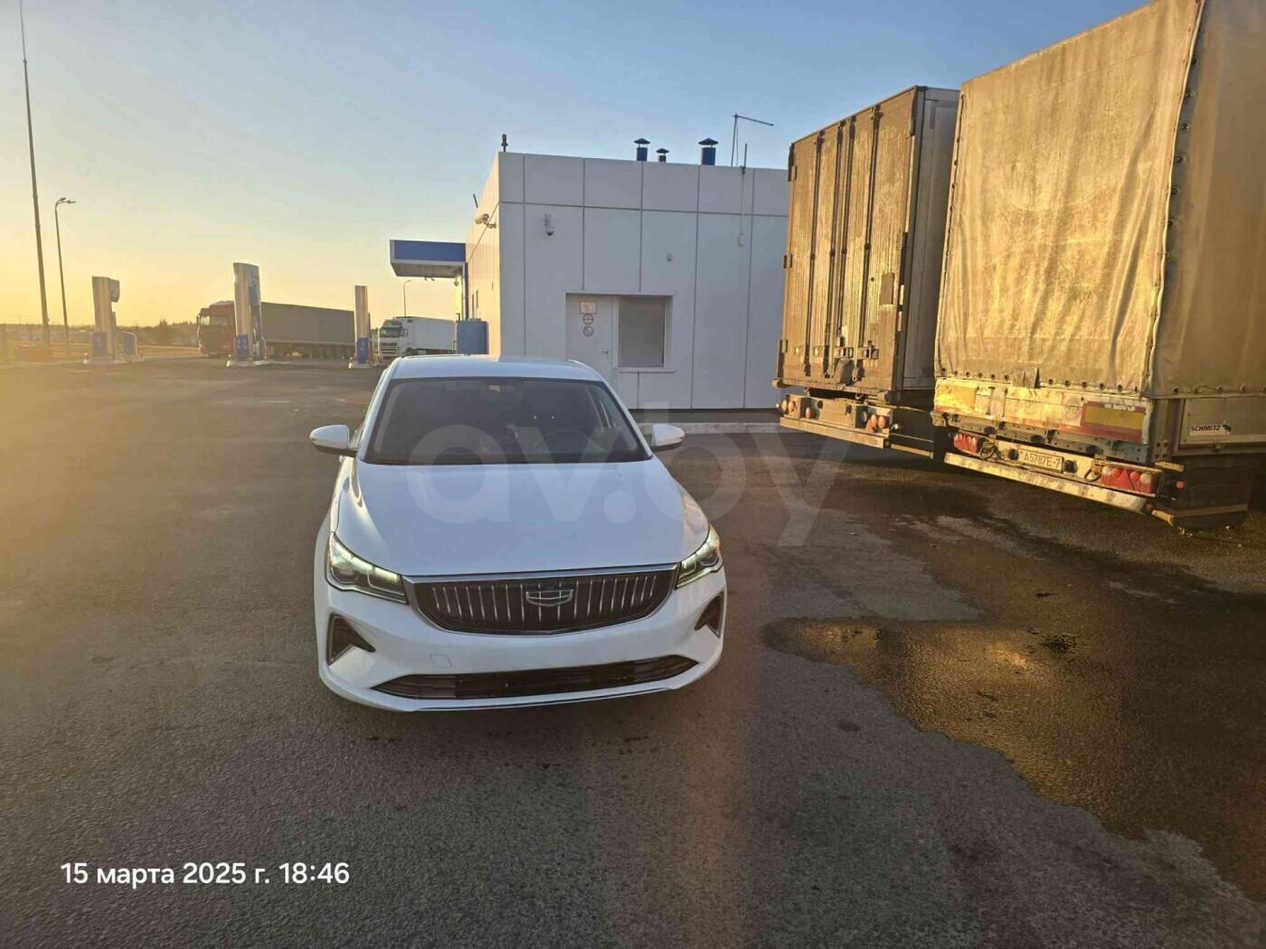Emgrand_2021: (301, 350, 735, 715)
